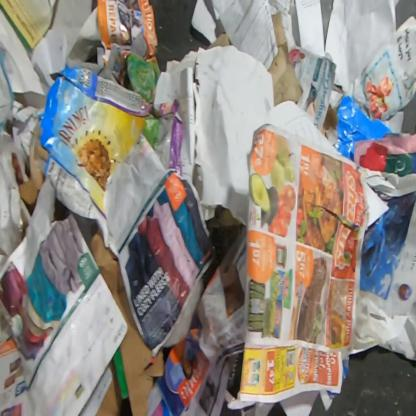cardboard: (18, 65, 185, 247), (87, 227, 164, 416), (333, 95, 394, 163), (77, 358, 134, 415), (321, 104, 338, 140)
rigid_plastic: (14, 82, 51, 112)
